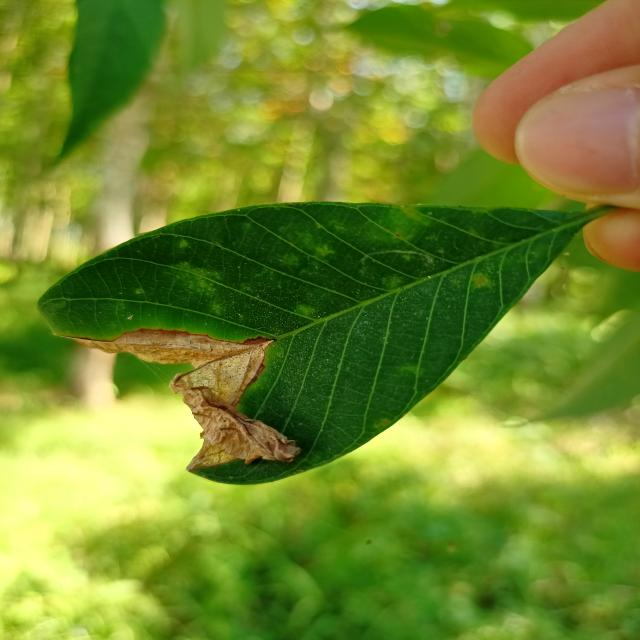Leaf-Blight: (60, 327, 304, 472)
